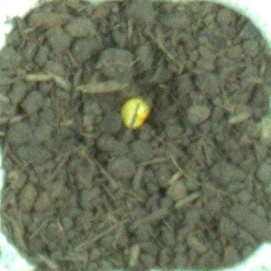pepper seed: (43, 31, 195, 161)
